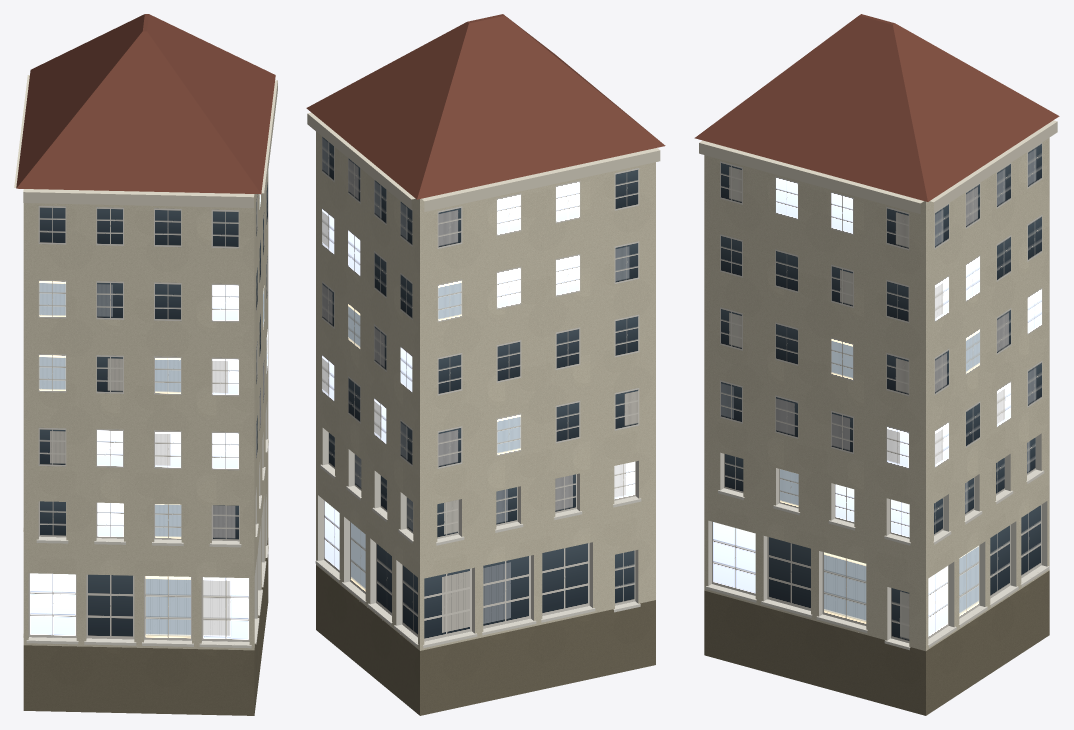
Rendered from z3c_hohl_cream.glb.
3 views of the same model, side by side, from view 1: azimuth 30°, elevation 25°; view 2: azimuth 150°, elevation 25°; view 3: azimuth 270°, elevation 25° (orthographic).
Parts seen in each view (by area): view 1: z3c_hohl_cream; view 2: z3c_hohl_cream; view 3: z3c_hohl_cream.
Part boxes in pixels (x1,y1,x2,y2): z3c_hohl_cream: [14, 14, 277, 715]; z3c_hohl_cream: [306, 14, 665, 715]; z3c_hohl_cream: [694, 14, 1059, 715].
Size of the model in its own units: 14.9 by 29.02 by 15.35.
Materials: 3 (3 with a texture image).
